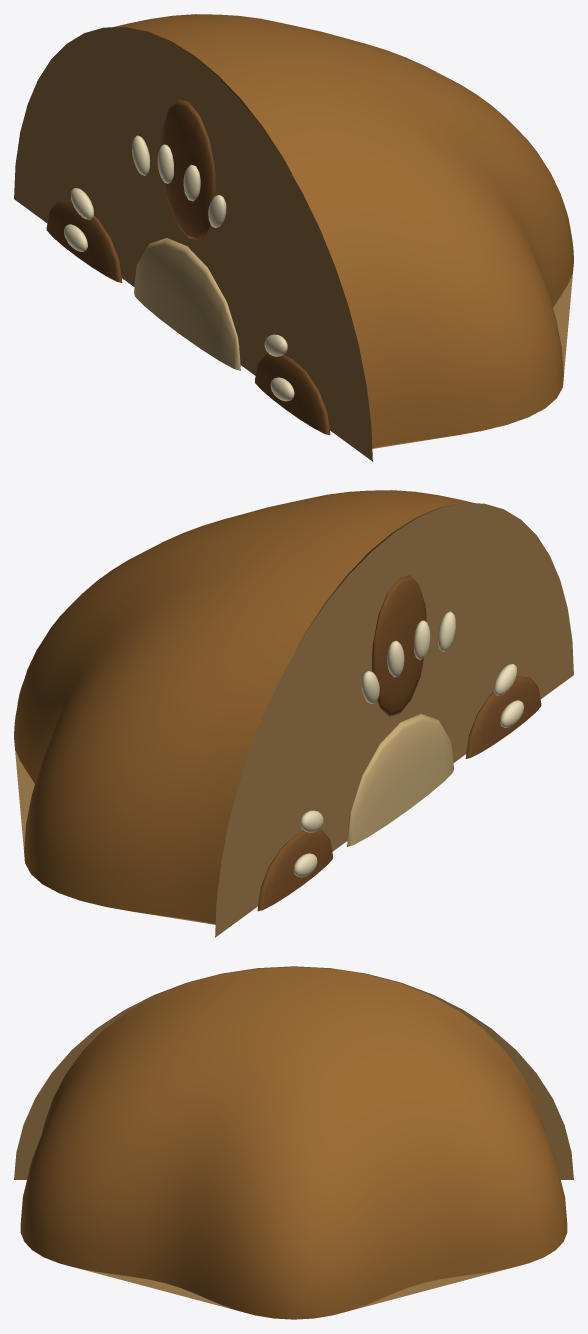
File: event_rainbow_amber_wedge.glb
3 views of the same model, one above another, from view 1: azimuth 30°, elevation 25°; view 2: azimuth 150°, elevation 25°; view 3: azimuth 270°, elevation 25° (orthographic). The views are drawn at different scales.
Parts seen in each view (by area): view 1: amber archive amber heirloom skin / amber moist cut flesh, amber archive amber moist cut flesh, amber archive amber pale pith / amber moist cut flesh, amber archive amber seed chambers / amber moist cut flesh, amber archive amber seed chambers, amber archive Ivory archive seeds; view 2: amber archive amber heirloom skin / amber moist cut flesh, amber archive amber moist cut flesh, amber archive amber pale pith / amber moist cut flesh, amber archive amber seed chambers / amber moist cut flesh, amber archive amber seed chambers, amber archive Ivory archive seeds; view 3: amber archive amber heirloom skin / amber moist cut flesh, amber archive amber moist cut flesh.
Boxes of the visible parts, x1,y1,x2,y2 form: amber archive amber heirloom skin / amber moist cut flesh: [113, 14, 573, 448]; amber archive amber moist cut flesh: [14, 27, 372, 461]; amber archive amber pale pith / amber moist cut flesh: [134, 238, 240, 370]; amber archive amber seed chambers / amber moist cut flesh: [46, 200, 330, 435]; amber archive amber seed chambers: [161, 99, 215, 240]; amber archive Ivory archive seeds: [64, 135, 294, 401]; amber archive amber heirloom skin / amber moist cut flesh: [14, 490, 474, 924]; amber archive amber moist cut flesh: [215, 503, 573, 937]; amber archive amber pale pith / amber moist cut flesh: [347, 714, 453, 846]; amber archive amber seed chambers / amber moist cut flesh: [257, 676, 541, 911]; amber archive amber seed chambers: [372, 575, 426, 716]; amber archive Ivory archive seeds: [293, 611, 523, 877]; amber archive amber heirloom skin / amber moist cut flesh: [20, 967, 567, 1319]; amber archive amber moist cut flesh: [14, 966, 573, 1179].
Bounding box in the file's own units: 0.7106 × 0.48 × 1.14.
